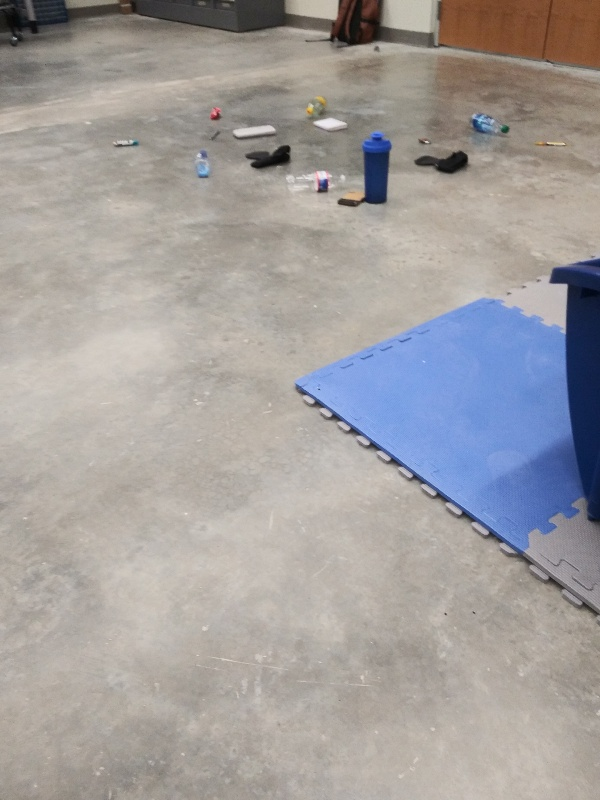bottle: (283, 168, 349, 197), (468, 110, 511, 138), (301, 91, 335, 120), (192, 144, 216, 182)
